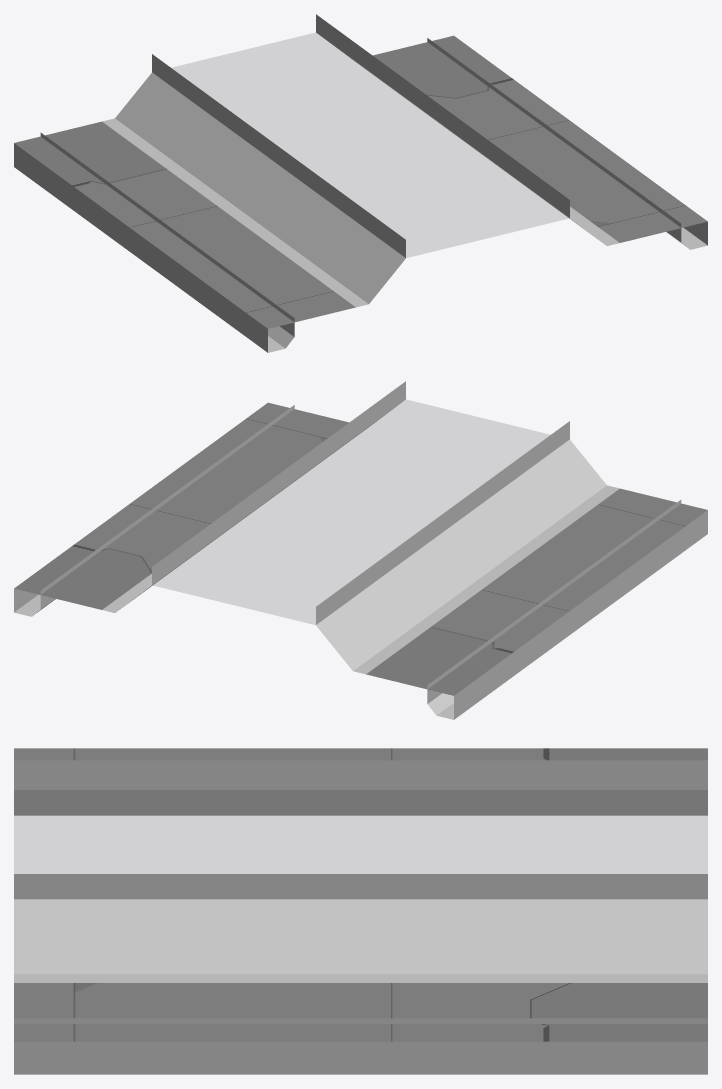
The model's file is SM_Ceiling_5x5_Middle_A.fbx.
3 renders of one model, top to bottom at view 1: azimuth 30°, elevation 25°; view 2: azimuth 150°, elevation 25°; view 3: azimuth 270°, elevation 25°, orthographic. The views are drawn at different scales.
Visible parts, largest first — view 1: SM_Ceiling_5x5_Middle_A; view 2: SM_Ceiling_5x5_Middle_A; view 3: SM_Ceiling_5x5_Middle_A.
Boxes of the visible parts, x1,y1,x2,y2 form: SM_Ceiling_5x5_Middle_A: (14,14,707,352); SM_Ceiling_5x5_Middle_A: (14,381,707,719); SM_Ceiling_5x5_Middle_A: (14,748,707,1074).
Bounding box in the file's own units: 500 × 86.21 × 500.
